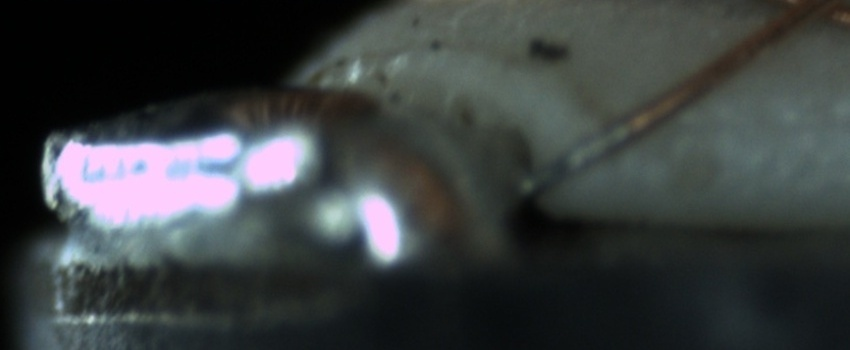CL: (770, 1, 846, 32)
DL: (676, 95, 849, 153)
TS: (523, 119, 636, 197)
